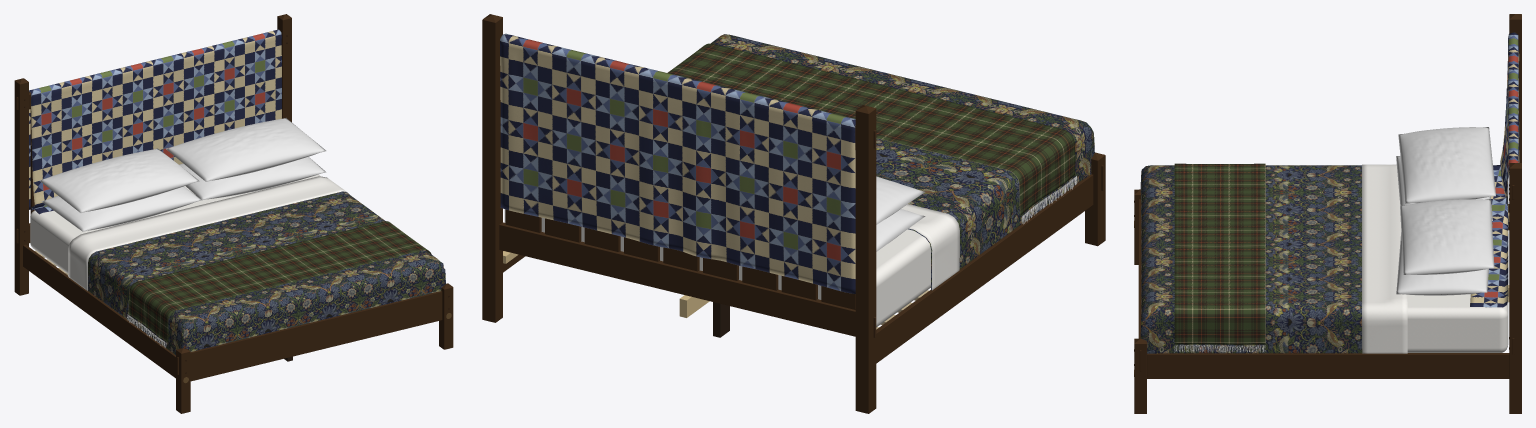
The model's file is bed-frame-king-made-up.dae.
3 views of the same model, side by side, from view 1: azimuth 30°, elevation 25°; view 2: azimuth 150°, elevation 25°; view 3: azimuth 270°, elevation 25° (orthographic). The views are drawn at different scales.
Visible parts, largest first — view 1: Bed coverlet, Bed headboard cover, Bed blanket, Bed foot rail, Bed top sheet, Bed pillow 1-1, Bed pillow 0-1, Bed side rail L, Bed headboard post L, Bed pillow 0-0, Bed pillow 1-0, Bed mattress (+3 smaller); view 2: Bed headboard cover, Bed blanket, Bed coverlet, Bed headboard rail bottom, Bed side rail L, Bed headboard post L, Bed headboard post R, Bed mattress, Bed top sheet, Bed foot leg L, Bed pillow 0-1, Bed pillow 0-0 (+9 smaller); view 3: Bed coverlet, Bed blanket, Bed side rail R, Bed top sheet, Bed pillow 1-1, Bed pillow 0-1, Bed mattress, Bed headboard cover, Bed headboard post R, Bed pillow 1-0, Bed foot leg R, Bed blanket fringe (+3 smaller).
Boxes of the visible parts, x1,y1,x2,y2 form: Bed coverlet: (88, 191, 445, 355); Bed headboard cover: (29, 29, 281, 214); Bed blanket: (128, 221, 431, 342); Bed foot rail: (190, 291, 442, 381); Bed top sheet: (68, 176, 349, 290); Bed pillow 1-1: (166, 118, 326, 181); Bed pillow 0-1: (39, 148, 199, 212); Bed side rail L: (23, 245, 175, 378); Bed headboard post L: (14, 81, 28, 295); Bed pillow 0-0: (41, 186, 201, 231); Bed pillow 1-0: (179, 156, 326, 200); Bed mattress: (30, 174, 320, 273); Bed headboard cover: (500, 33, 855, 293); Bed blanket: (667, 43, 1075, 215); Bed coverlet: (711, 34, 1094, 290); Bed headboard rail bottom: (499, 222, 855, 336); Bed side rail L: (876, 174, 1093, 363); Bed headboard post L: (855, 108, 876, 413); Bed headboard post R: (482, 17, 502, 322); Bed mattress: (504, 209, 931, 327); Bed top sheet: (901, 204, 959, 290); Bed foot leg L: (1085, 155, 1105, 246); Bed pillow 0-1: (876, 176, 925, 224); Bed pillow 0-0: (876, 209, 925, 251); Bed coverlet: (1140, 165, 1362, 353); Bed blanket: (1174, 163, 1265, 344); Bed side rail R: (1147, 353, 1509, 378); Bed top sheet: (1362, 164, 1407, 353); Bed pillow 1-1: (1400, 199, 1494, 274); Bed pillow 0-1: (1398, 127, 1495, 203); Bed mattress: (1407, 294, 1508, 352); Bed headboard cover: (1470, 32, 1519, 307); Bed headboard post R: (1509, 168, 1521, 413); Bed pillow 1-0: (1396, 223, 1492, 295); Bed foot leg R: (1134, 344, 1146, 413); Bed blanket fringe: (1174, 345, 1265, 352).
Size of the model in its own units: 80.88 by 85.14 by 60.12.
Materials: 15 (5 with a texture image).
